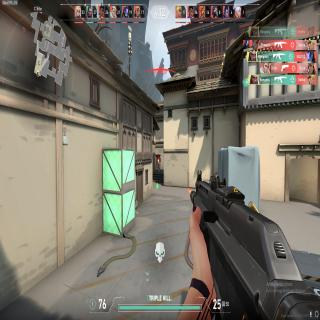ENEMY-BODY: (158, 158, 160, 172)
